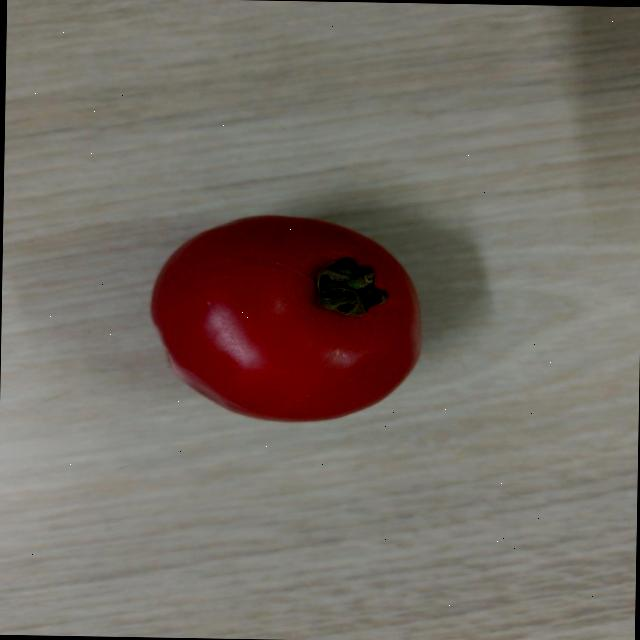Tomato: (146, 210, 432, 429)
